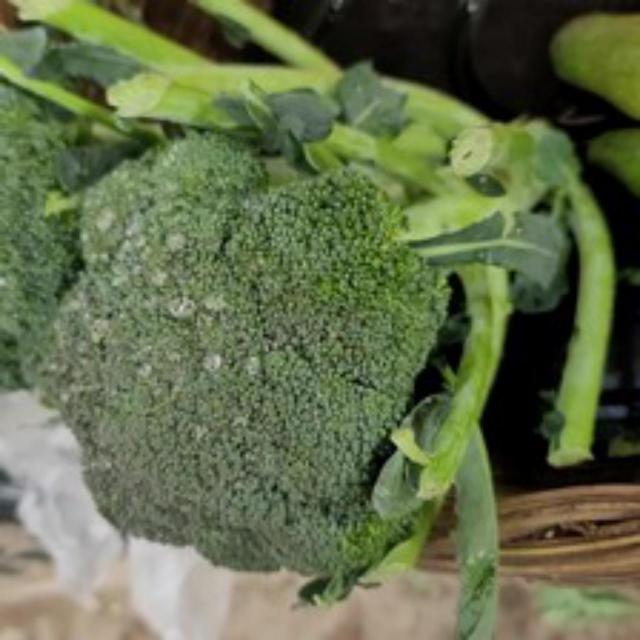broccoli: (38, 126, 482, 593)
